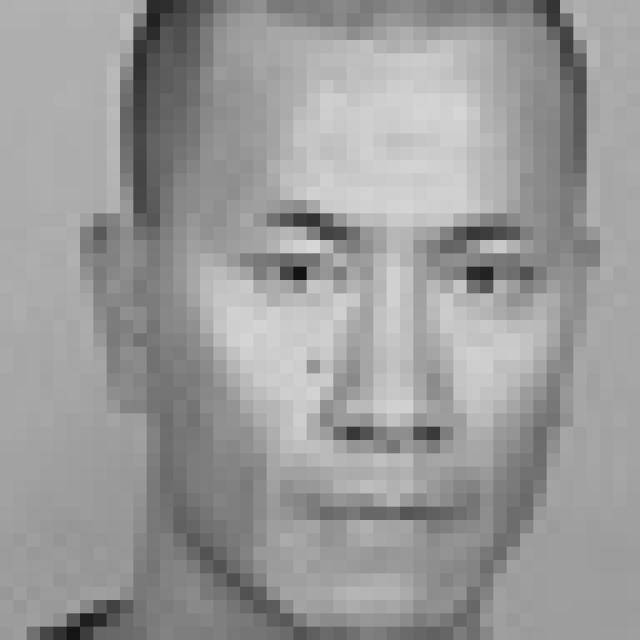neutral: (221, 194, 550, 571)
